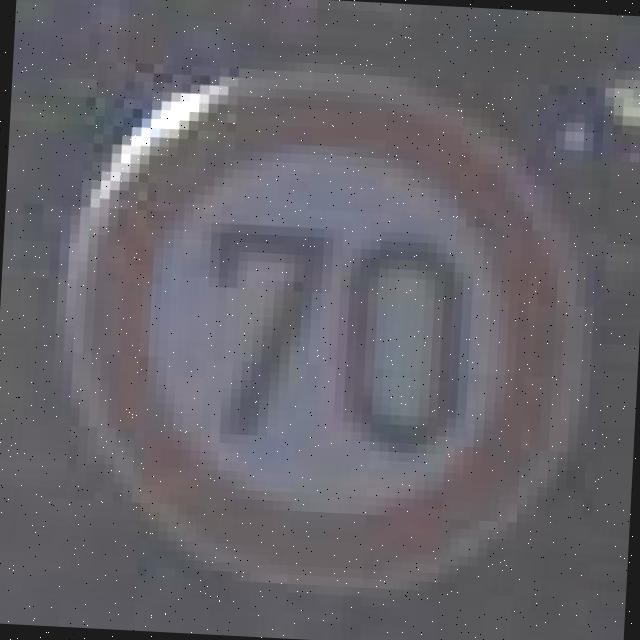Ograniczenie predkosci do 70: (43, 41, 597, 599)
